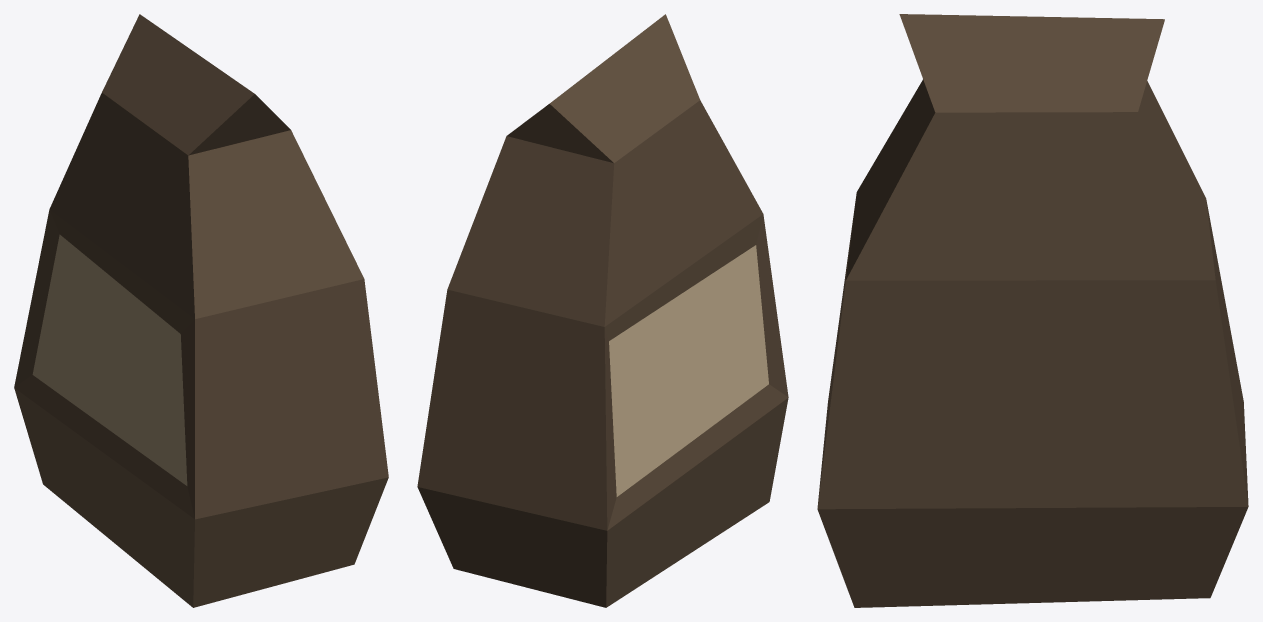
The model's file is Bag.fbx.
3 views of the same model, side by side, from view 1: azimuth 30°, elevation 25°; view 2: azimuth 150°, elevation 25°; view 3: azimuth 270°, elevation 25° (orthographic). The views are drawn at different scales.
Parts seen in each view (by area): view 1: Bag; view 2: Bag; view 3: Bag.
Boxes of the visible parts, left/top/right/bottom form: Bag: left=14, top=14, right=388, bottom=607; Bag: left=417, top=14, right=788, bottom=607; Bag: left=817, top=14, right=1248, bottom=607.
Bounding box in the file's own units: 14.78 × 35.63 × 25.21.
